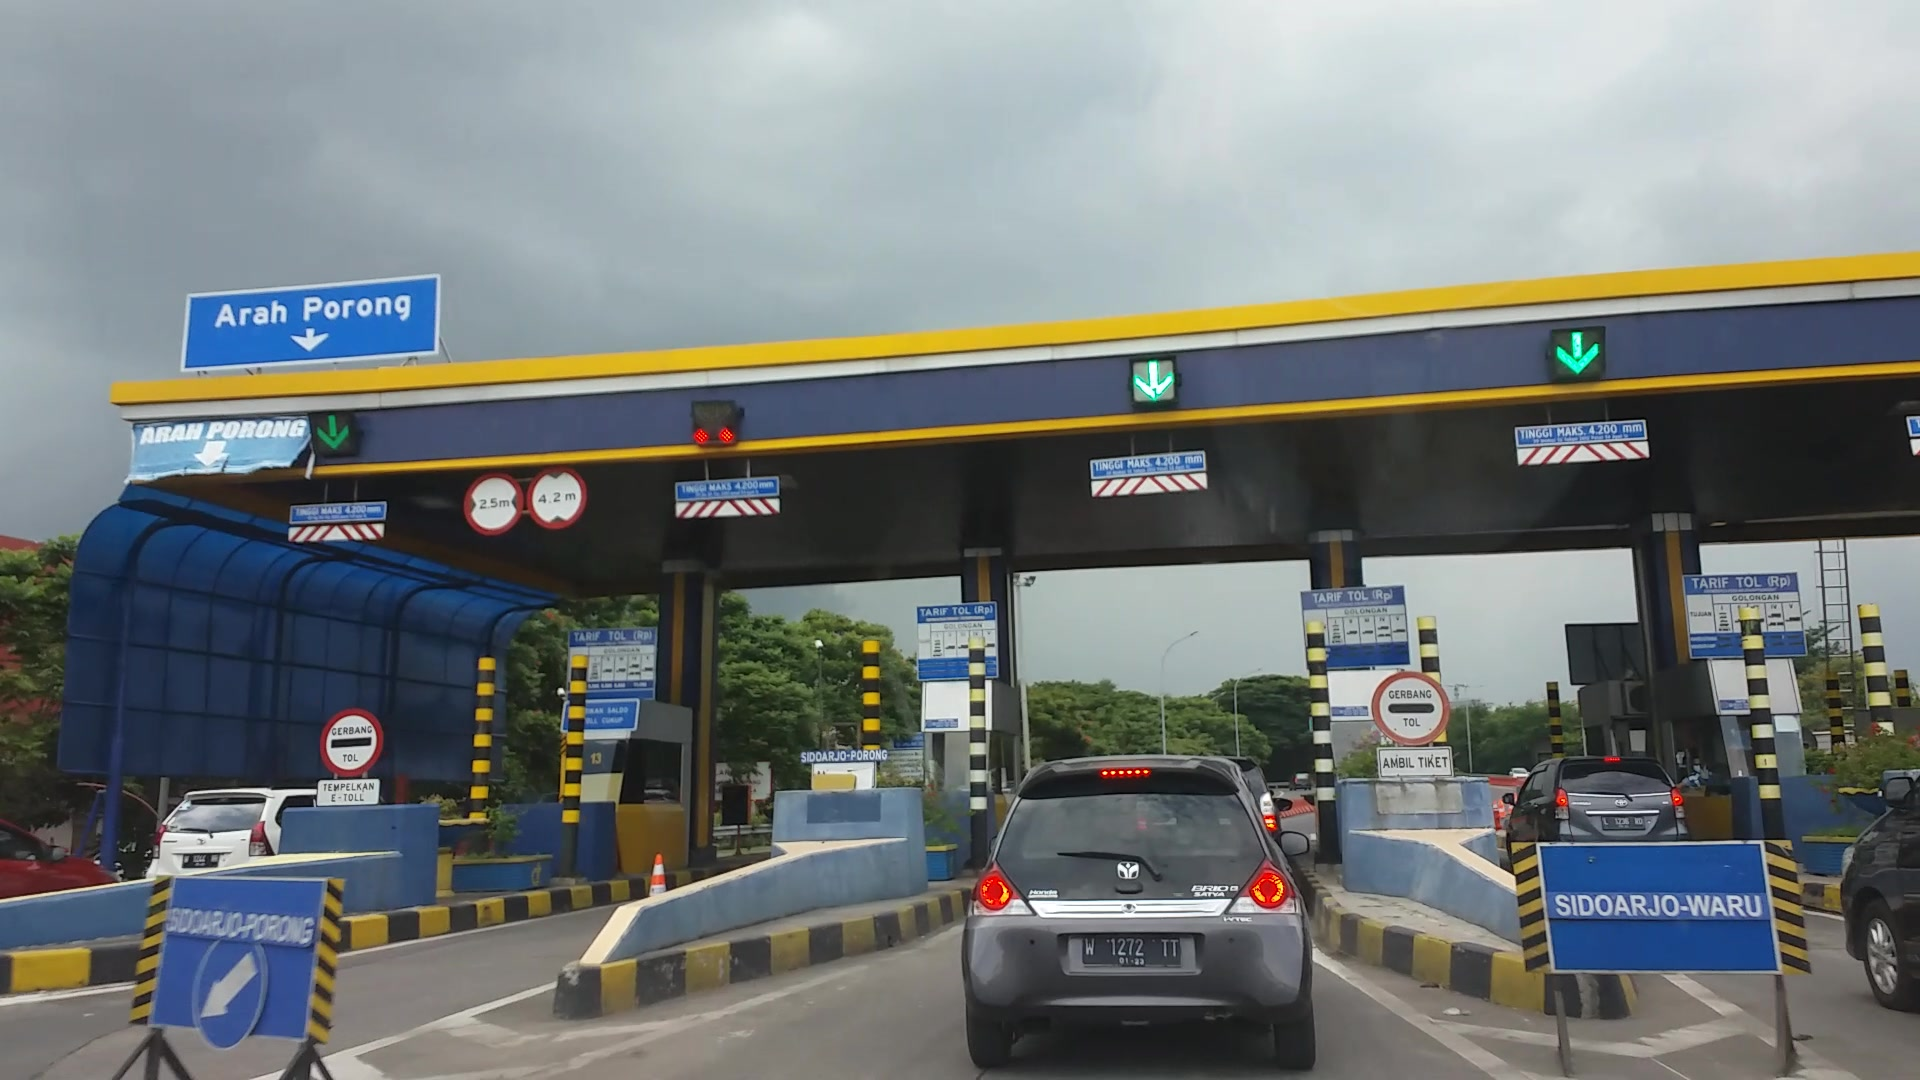plate_positive: (1083, 934, 1182, 967)
